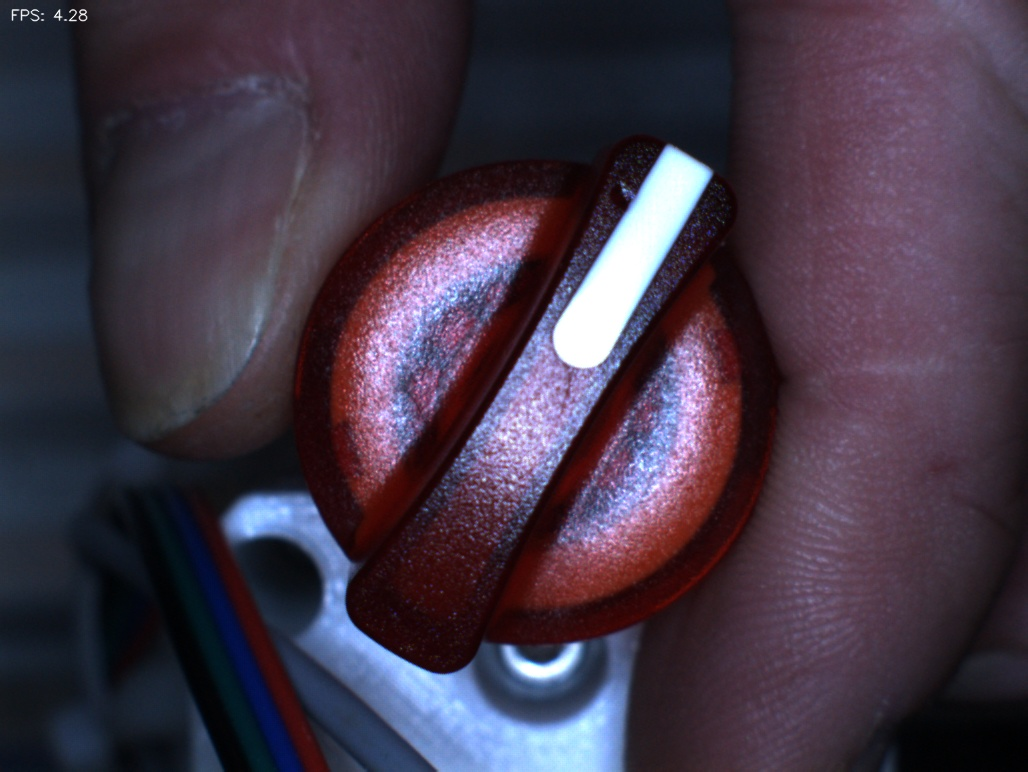Choc: (592, 163, 663, 234)
